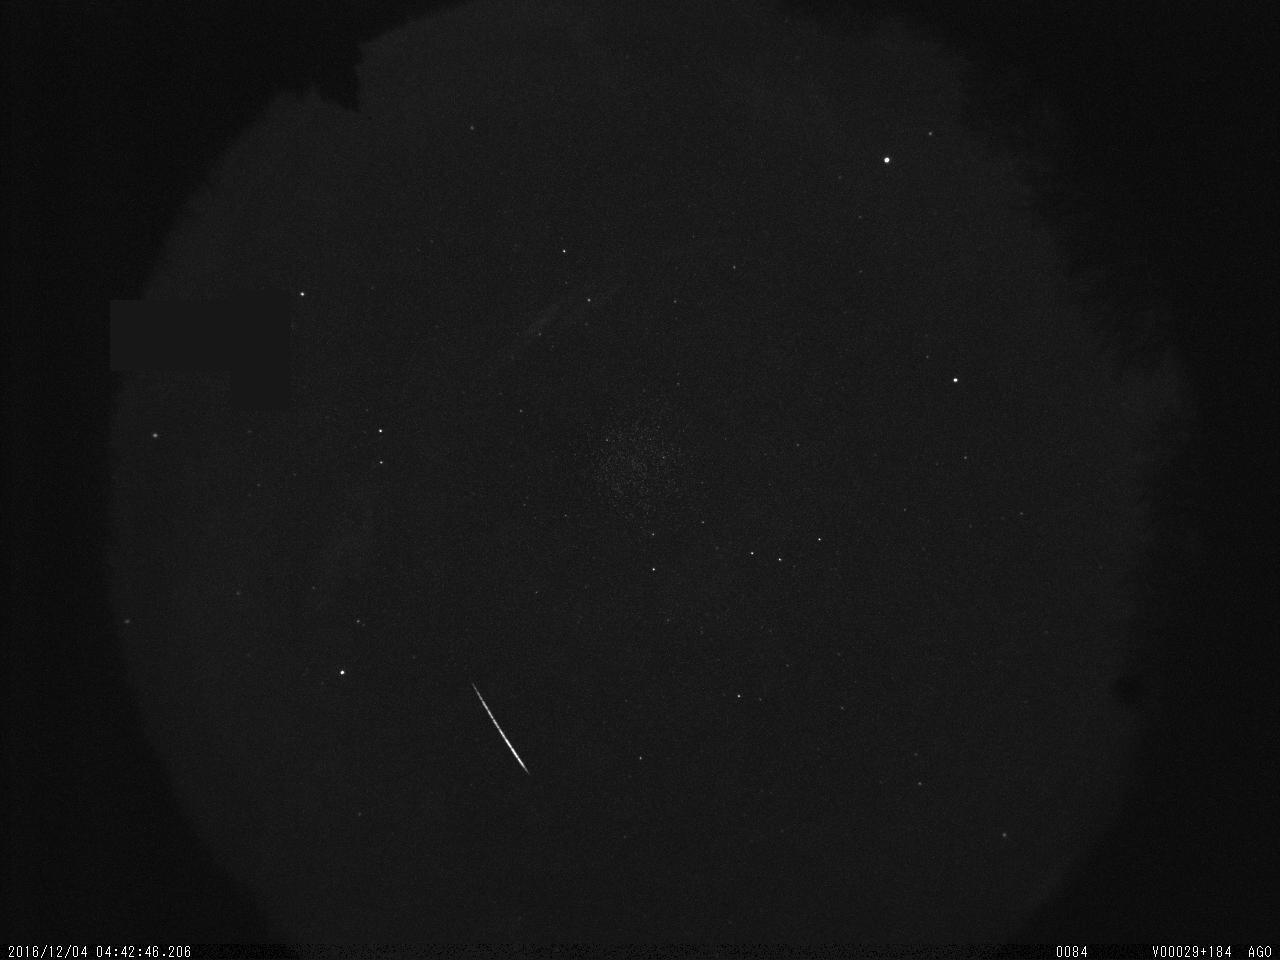meteor: (449, 674, 555, 789)
